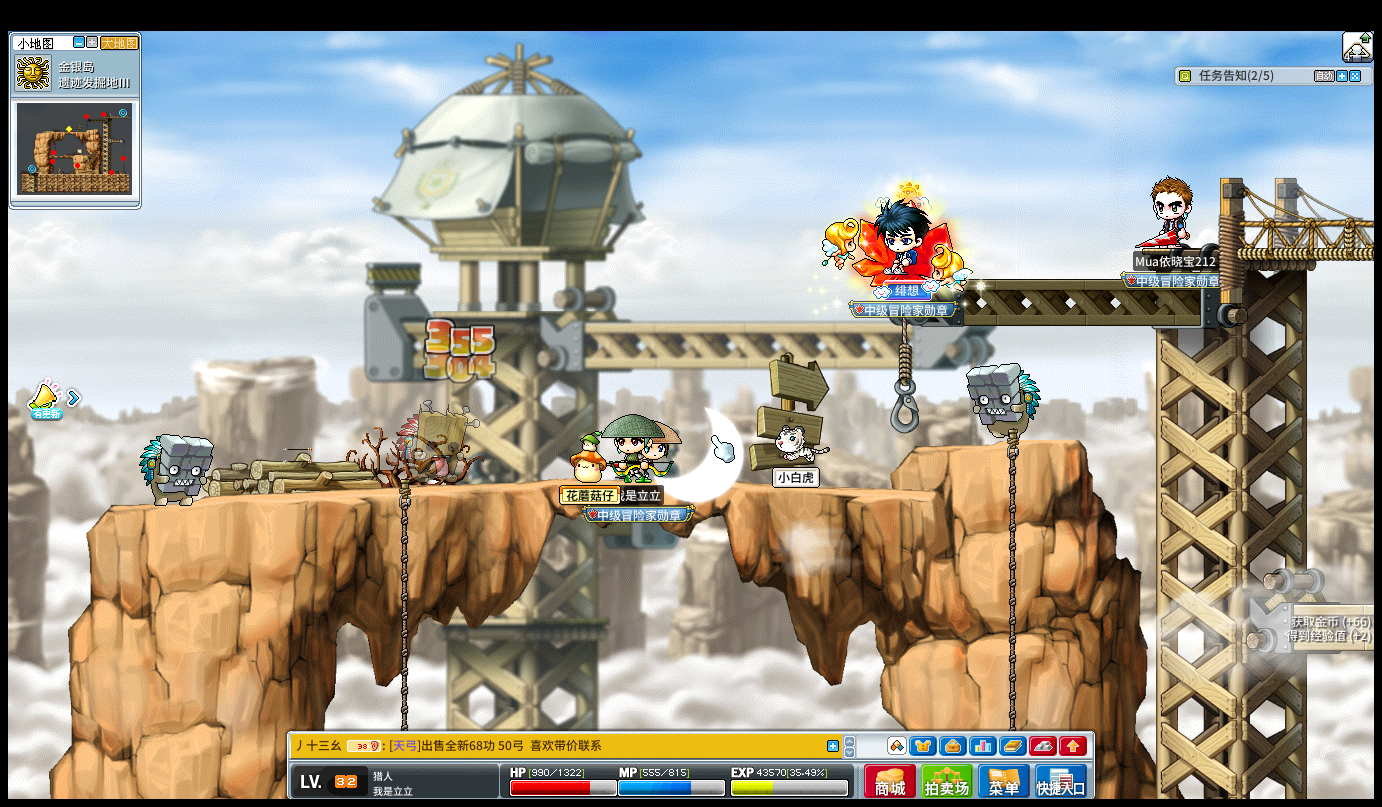floor: (94, 474, 905, 508), (110, 477, 1008, 499), (114, 477, 1039, 493), (916, 438, 1086, 453), (919, 434, 1084, 449)
monster: (394, 401, 475, 489), (965, 362, 1042, 443), (138, 433, 214, 508)
rope: (1004, 427, 1019, 723), (397, 475, 409, 739)
